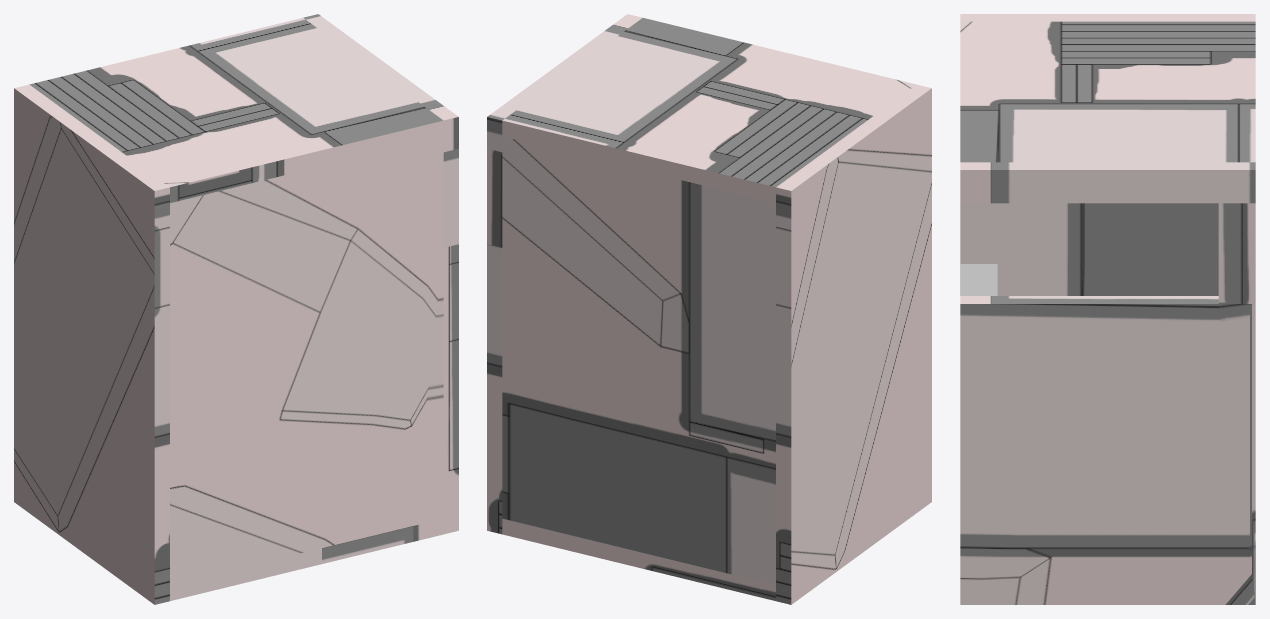
The model's file is h1-b1-full.dae.
3 renders of one model, left to right at view 1: azimuth 30°, elevation 25°; view 2: azimuth 150°, elevation 25°; view 3: azimuth 270°, elevation 25°, orthographic. The views are drawn at different scales.
Visible parts, largest first — view 1: _-h1-b1-shell; view 2: _-h1-b1-shell; view 3: _-h1-b1-shell, _-bed.
Part boxes in pixels (bbox=[...]): _-h1-b1-shell: bbox=[14, 14, 458, 604]; _-h1-b1-shell: bbox=[487, 14, 931, 604]; _-h1-b1-shell: bbox=[960, 14, 1255, 604]; _-bed: bbox=[960, 264, 997, 295].
Bounding box in the file's own units: 10 × 8 × 13.
Materials: 10 (9 with a texture image).
